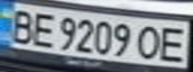0: (90, 18, 115, 56)
2: (72, 16, 96, 54)
9: (54, 14, 78, 52), (112, 20, 136, 57)
B: (3, 6, 39, 44)
E: (154, 24, 190, 63), (27, 9, 60, 48)
O: (136, 24, 166, 61)
